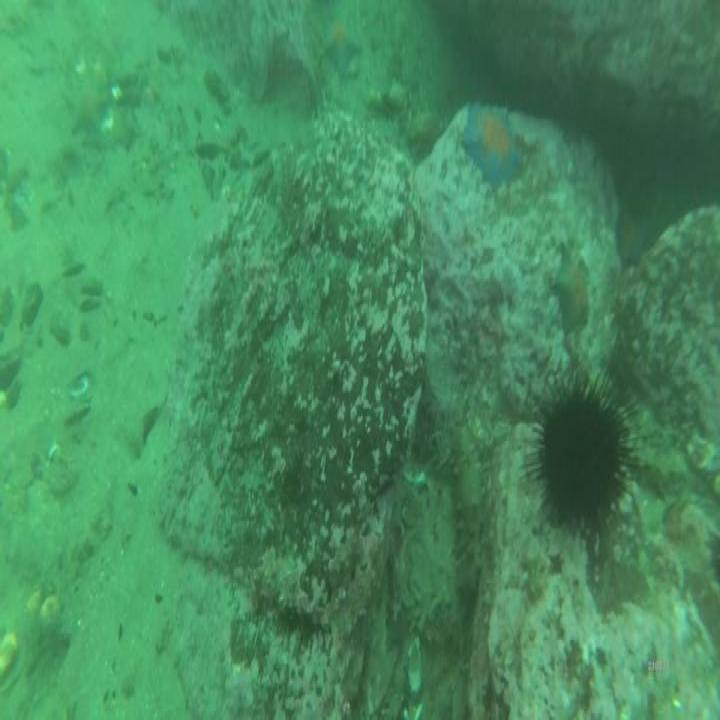echinus: (546, 388, 626, 530)
holothurian: (458, 455, 486, 592), (631, 434, 686, 492)
starfish: (464, 103, 522, 180), (554, 238, 590, 332), (324, 16, 362, 71)
